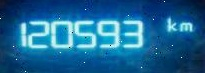0: (49, 18, 72, 48)
1: (18, 20, 26, 49)
2: (27, 19, 48, 49)
3: (121, 18, 143, 48)
5: (74, 19, 96, 48)
9: (97, 17, 118, 48)
X: (165, 14, 177, 31), (179, 19, 193, 32)
